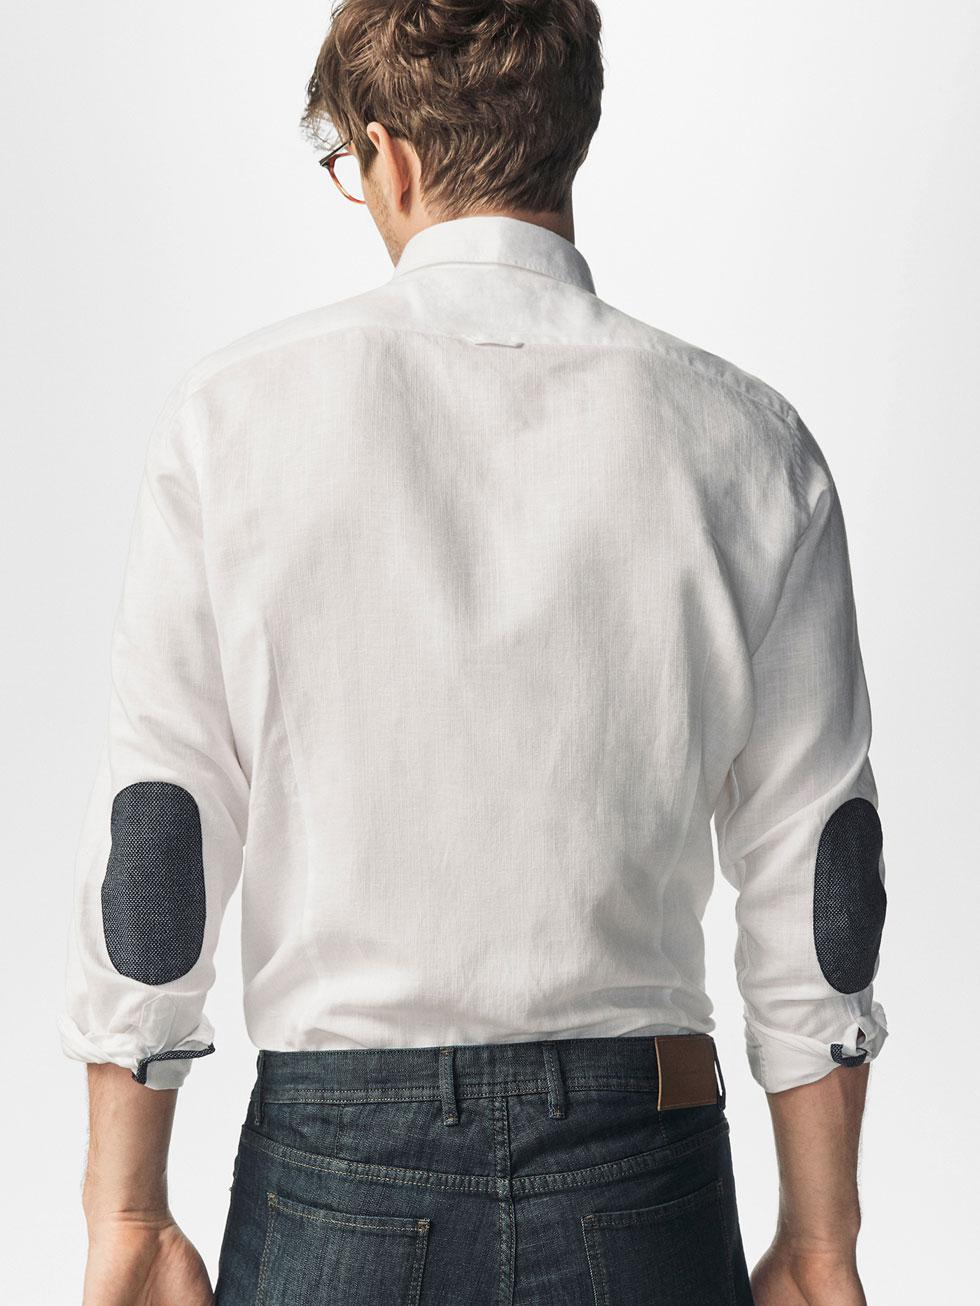teeshirt: (49, 209, 897, 1109)
